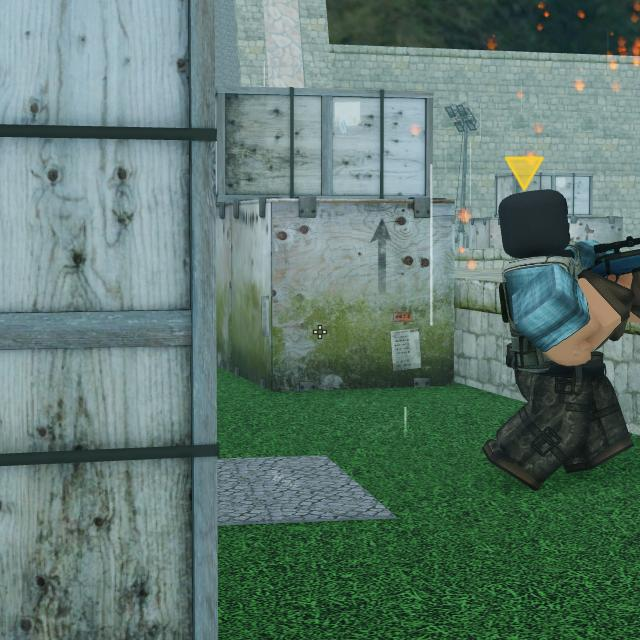Head: (498, 192, 572, 254)
Player: (482, 185, 632, 488)
